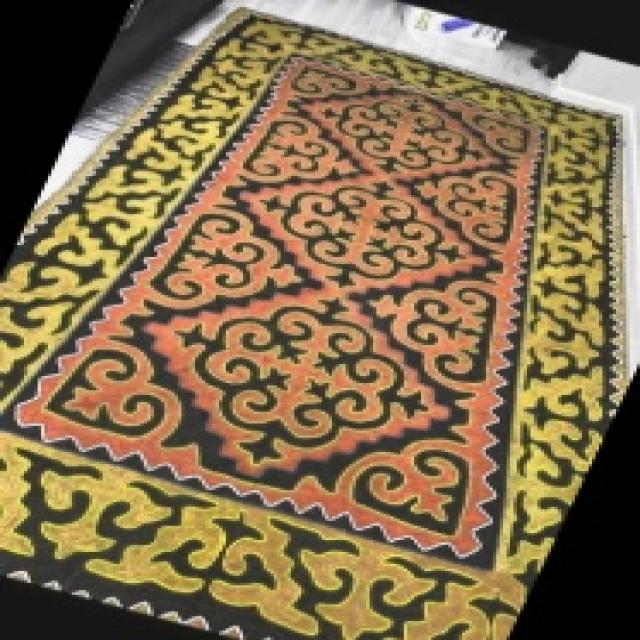Unity: (149, 293, 447, 476), (240, 180, 483, 292), (129, 188, 313, 324), (350, 269, 503, 420), (296, 89, 510, 182), (224, 100, 370, 192), (405, 163, 517, 264)
